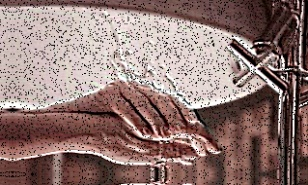washing hand: (96, 59, 228, 170)
